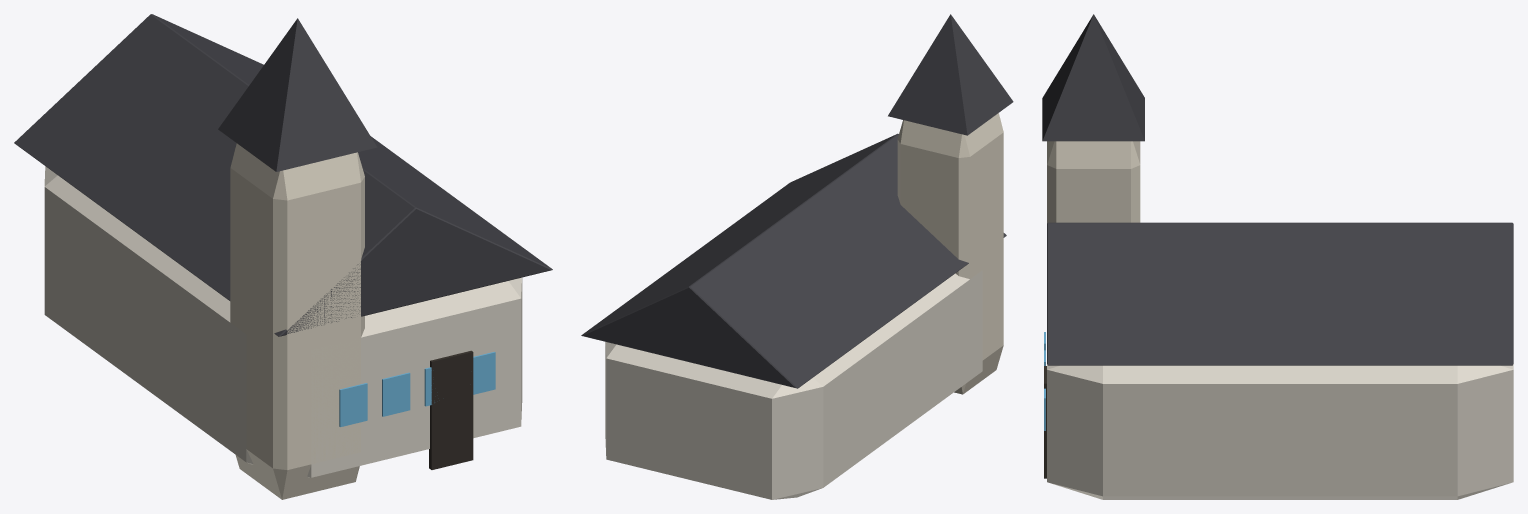
The model's file is church_gothic_l.glb.
3 renders of one model, left to right at view 1: azimuth 30°, elevation 25°; view 2: azimuth 150°, elevation 25°; view 3: azimuth 270°, elevation 25°, orthographic. The views are drawn at different scales.
Parts seen in each view (by area): view 1: roof, walls, towr, pyr, arch, win, win.001, win.003; view 2: roof, walls, towr, pyr; view 3: roof, walls, pyr, towr.
Part boxes in pixels (box(x1,y1,x2,y2)): roof: box(14, 14, 552, 336); walls: box(44, 166, 522, 477); towr: box(230, 143, 364, 499); pyr: box(218, 18, 377, 171); arch: box(429, 350, 473, 469); win: box(339, 383, 367, 427); win.001: box(382, 372, 410, 416); win.003: box(473, 351, 495, 394); roof: box(581, 133, 1006, 388); walls: box(605, 270, 982, 499); towr: box(897, 113, 1003, 394); pyr: box(888, 14, 1013, 135); roof: box(1047, 222, 1513, 365); walls: box(1047, 364, 1513, 499); pyr: box(1042, 14, 1144, 141); towr: box(1047, 141, 1140, 223).
Size of the model in its own units: 16.47 by 25.65 by 27.27.
